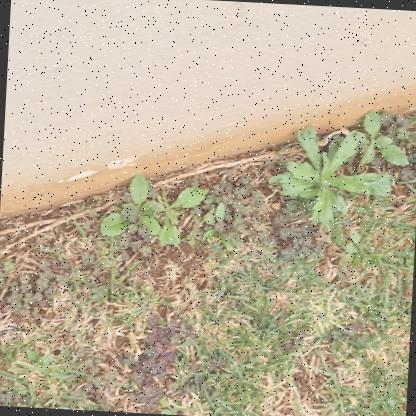Weeds: (267, 128, 400, 231), (139, 180, 208, 250), (98, 173, 160, 243), (349, 109, 412, 176)
